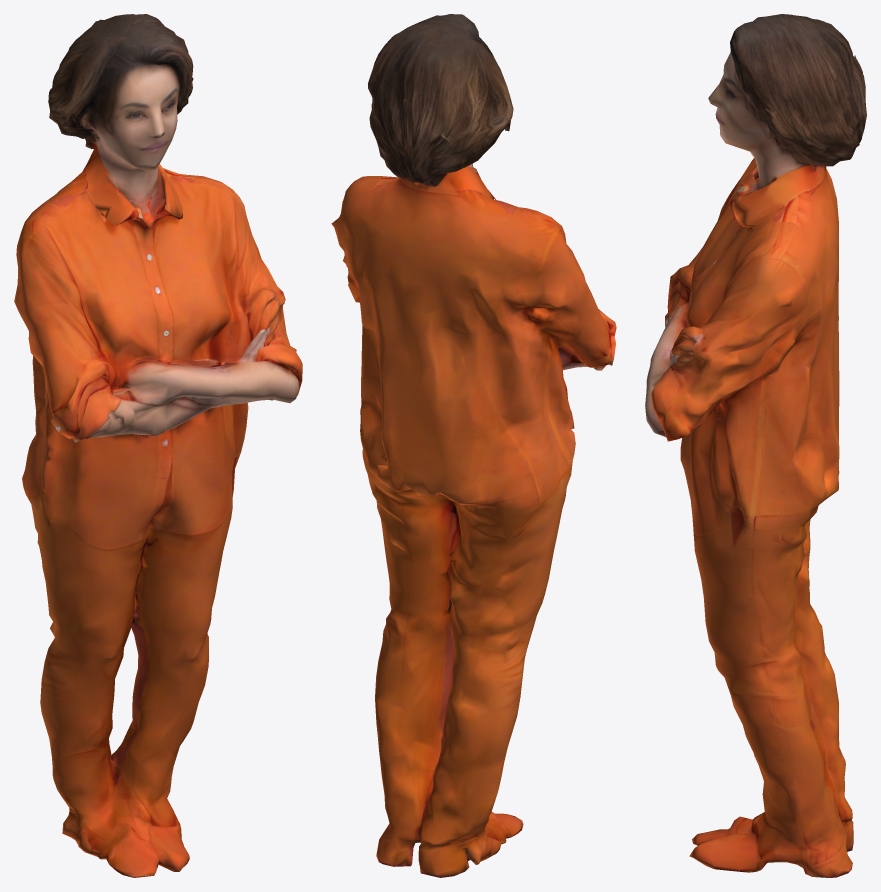
3 renders of one model, left to right at view 1: azimuth 30°, elevation 25°; view 2: azimuth 150°, elevation 25°; view 3: azimuth 270°, elevation 25°, orthographic. The views are drawn at different scales.
Parts seen in each view (by area): view 1: nodes[0]; view 2: nodes[0]; view 3: nodes[0].
Boxes of the visible parts, x1,y1,x2,y2 form: nodes[0]: [14, 14, 302, 877]; nodes[0]: [331, 14, 616, 877]; nodes[0]: [645, 14, 866, 877].
Size of the model in its own units: 0.633 by 2 by 0.4789.
1 material, 1 textured.
